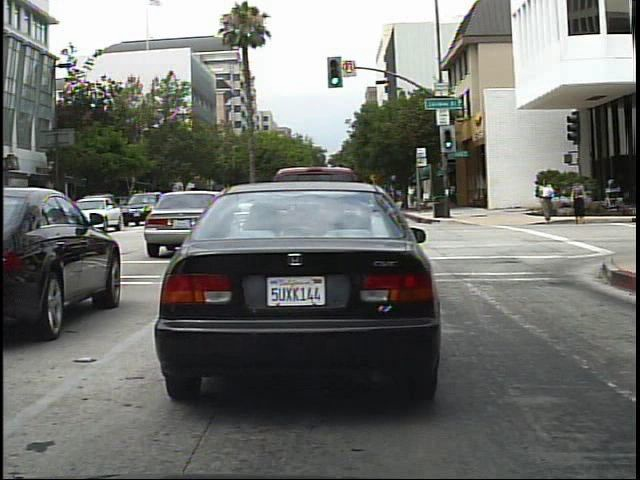person: (534, 174, 560, 229), (566, 174, 592, 228), (402, 182, 419, 214)
